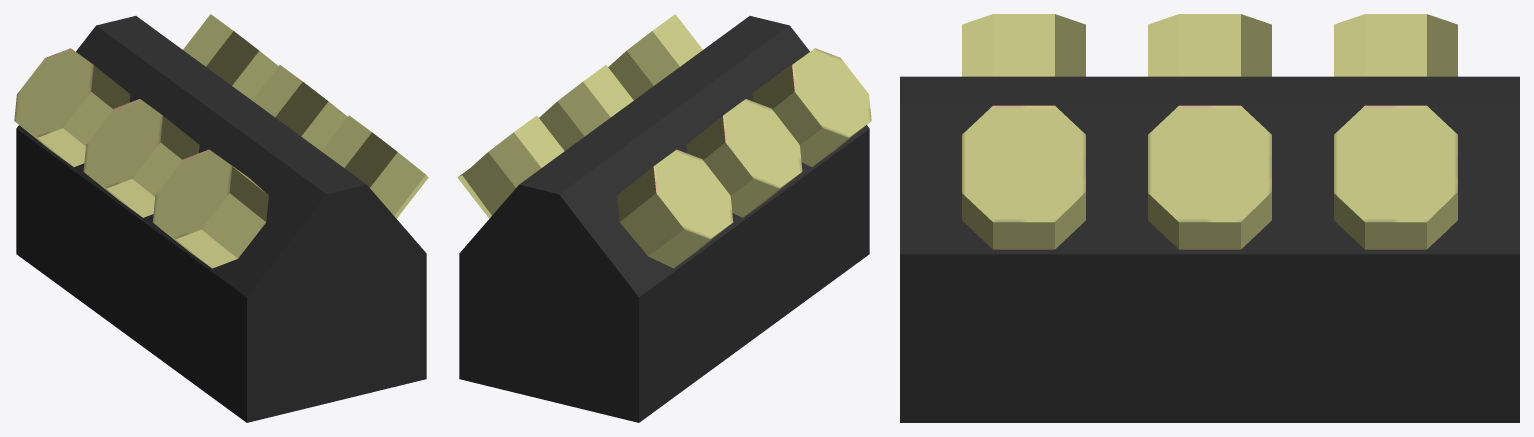
3 renders of one model, left to right at view 1: azimuth 30°, elevation 25°; view 2: azimuth 150°, elevation 25°; view 3: azimuth 270°, elevation 25°, orthographic. The views are drawn at different scales.
Visible parts, largest first — view 1: part5; view 2: part5; view 3: part5.
Boxes of the visible parts, x1,y1,x2,y2 form: part5: (14, 14, 428, 422); part5: (457, 14, 871, 422); part5: (900, 14, 1519, 422).
Bounding box in the file's own units: 3.16 × 2.71 × 5.
Materials: 1 (1 with a texture image).
